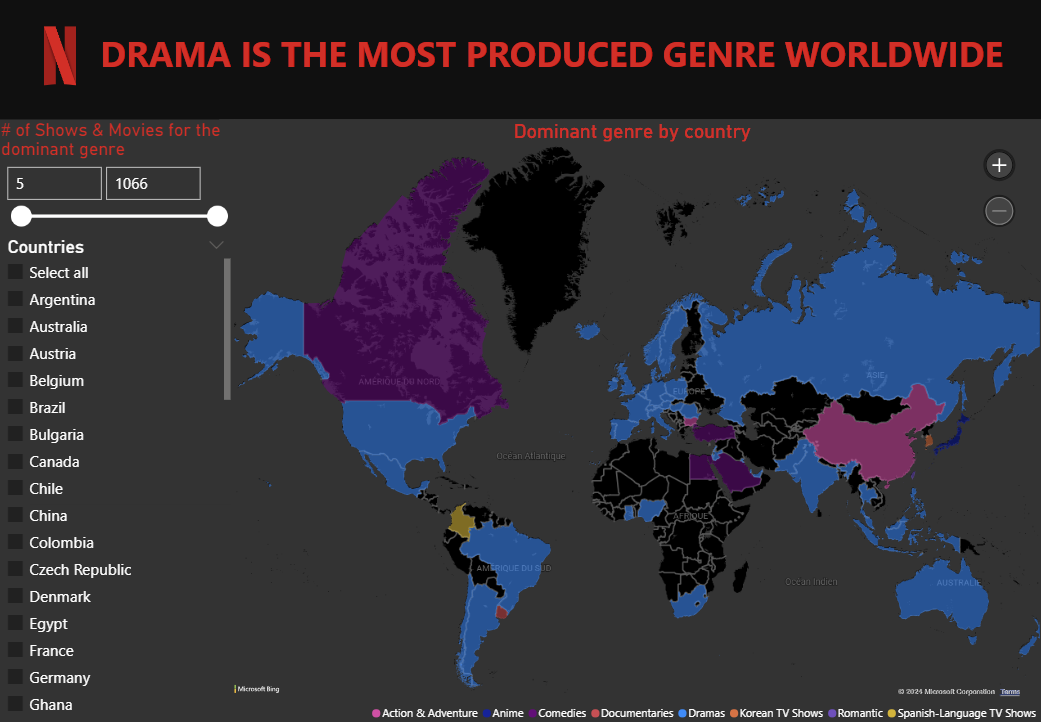

The page's visual inventory and layout, read from the dashboard file:
{"tool":"powerbi","page":{"name":"Genre with most created content by country","canvas":[1280,900],"ordinal":5},"visuals":[{"type":"image","box":[0,0,153.7,153.7],"z":0},{"type":"filledMap","title":"Dominant genre by country","fields":{"Category":["BestGenrePerCountry.Countries"],"Series":["BestGenrePerCountry.Genres Cleaned"]},"box":[272,154.3,1008.5,745.7],"z":1000},{"type":"textbox","box":[107,39.8,1141.7,72.7],"z":2000},{"type":"slicer","title":"# of Shows & Movies for the dominant genre","fields":{"Values":["BestGenrePerCountry.Nb_Show_Id"]},"box":[0,154.3,290.3,139.1],"z":3000},{"type":"slicer","fields":{"Values":["BestGenrePerCountry.Countries"]},"box":[0,293.4,290.3,606.6],"z":4500}]}

Visuals, with their boxes in screenshot pixels (x1, y1, x2, y2), scaled from the page's 1280x900 canvas onto the 1041x722 screenshot:
image: 0, 0, 125, 123
"Dominant genre by country" filledMap: 221, 124, 1040, 721
textbox: 87, 32, 1016, 90
"# of Shows & Movies for the dominant genre" slicer: 0, 124, 236, 235
slicer - BestGenrePerCountry.Countries: 0, 235, 236, 721
